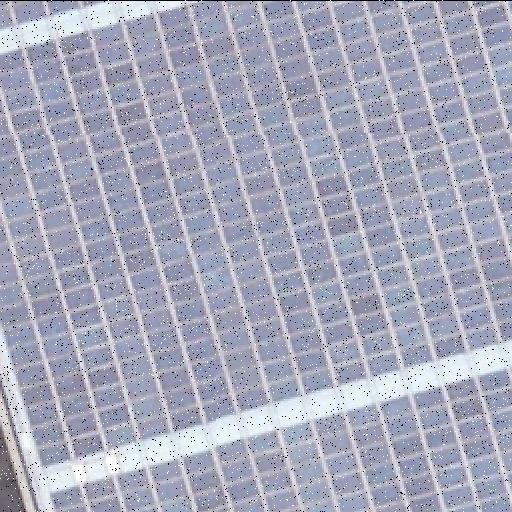solar-panel: (0, 0, 512, 464), (49, 364, 511, 512), (0, 1, 104, 31)
